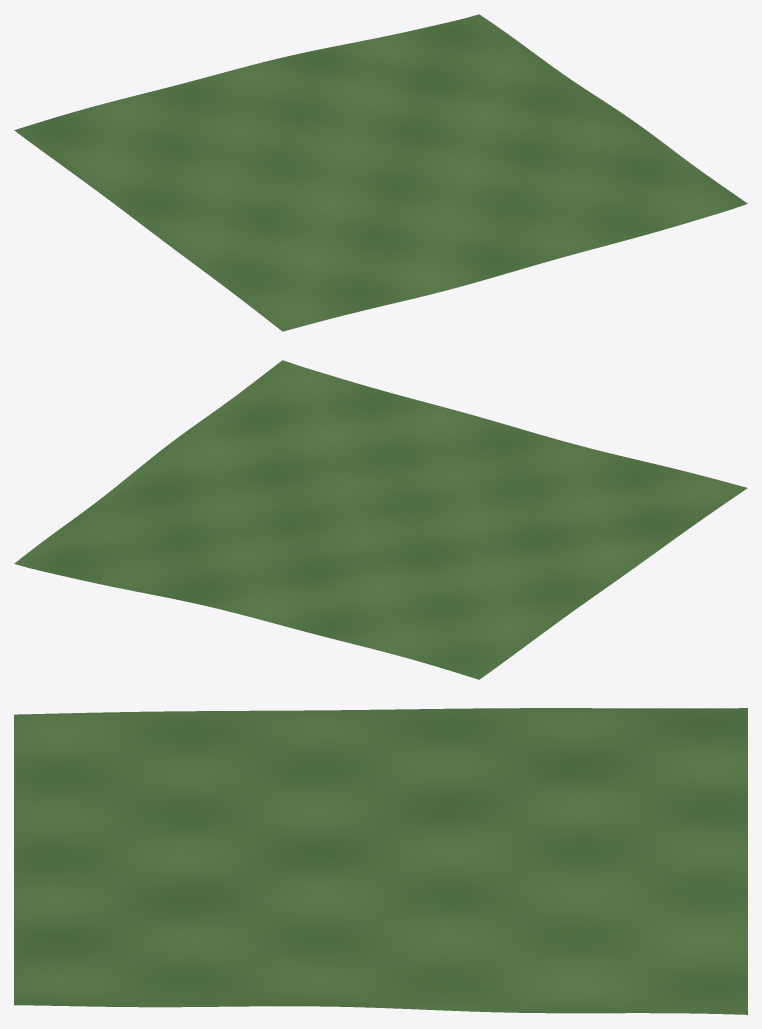
Rendered from chunk_11_1.glb.
3 renders of one model, top to bottom at view 1: azimuth 30°, elevation 25°; view 2: azimuth 150°, elevation 25°; view 3: azimuth 270°, elevation 25°, orthographic. The views are drawn at different scales.
Size of the model in its own units: 512 by 15.09 by 512.
